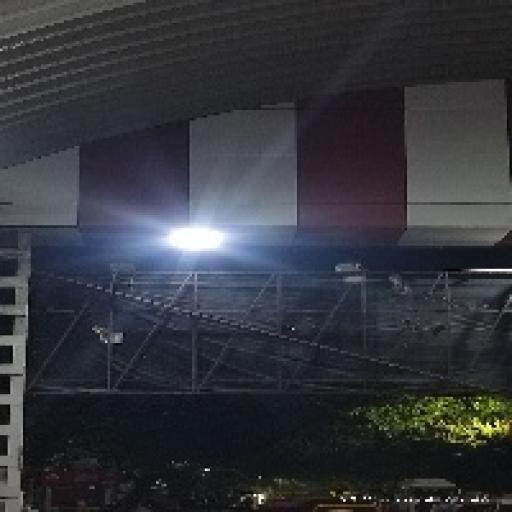Working: (162, 219, 234, 261)
